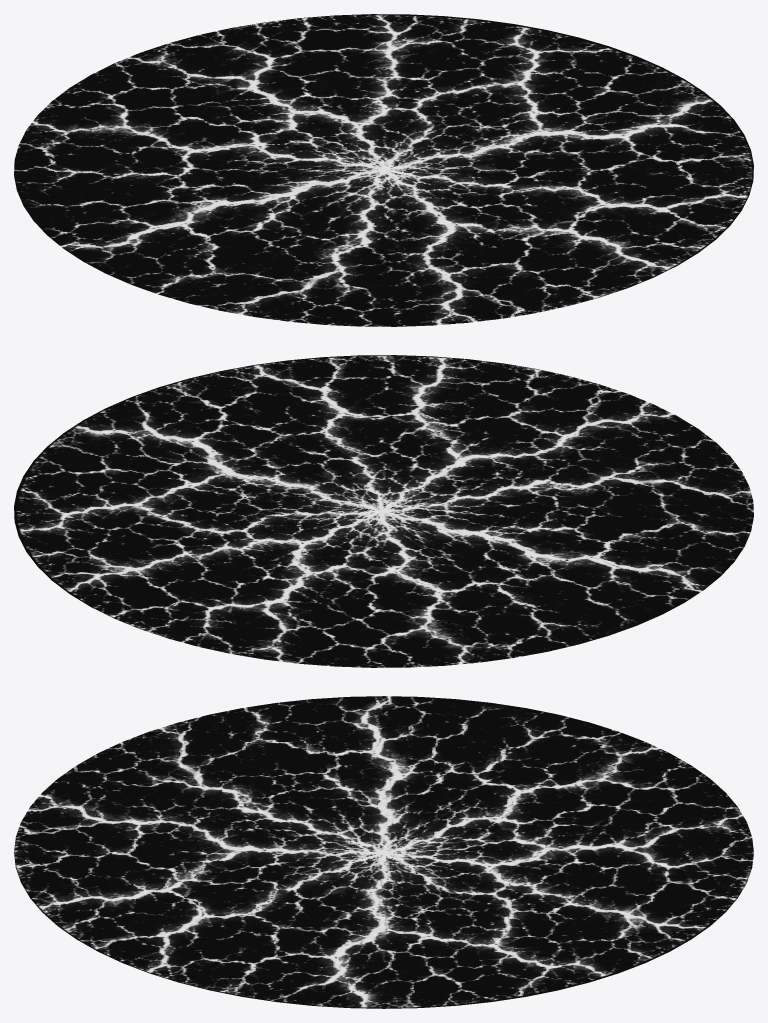
File: RoarTelegraphFill.glb
The picture shows the model from 3 angles, top to bottom: view 1: azimuth 30°, elevation 25°; view 2: azimuth 150°, elevation 25°; view 3: azimuth 270°, elevation 25°; orthographic projection.
Parts seen in each view (by area): view 1: Circle; view 2: Circle; view 3: Circle.
Boxes of the visible parts, x1,y1,x2,y2 form: Circle: [14, 14, 753, 326]; Circle: [14, 355, 753, 667]; Circle: [14, 696, 753, 1008].
Bounding box in the file's own units: 2 × 0 × 2.
1 material, 1 textured.
